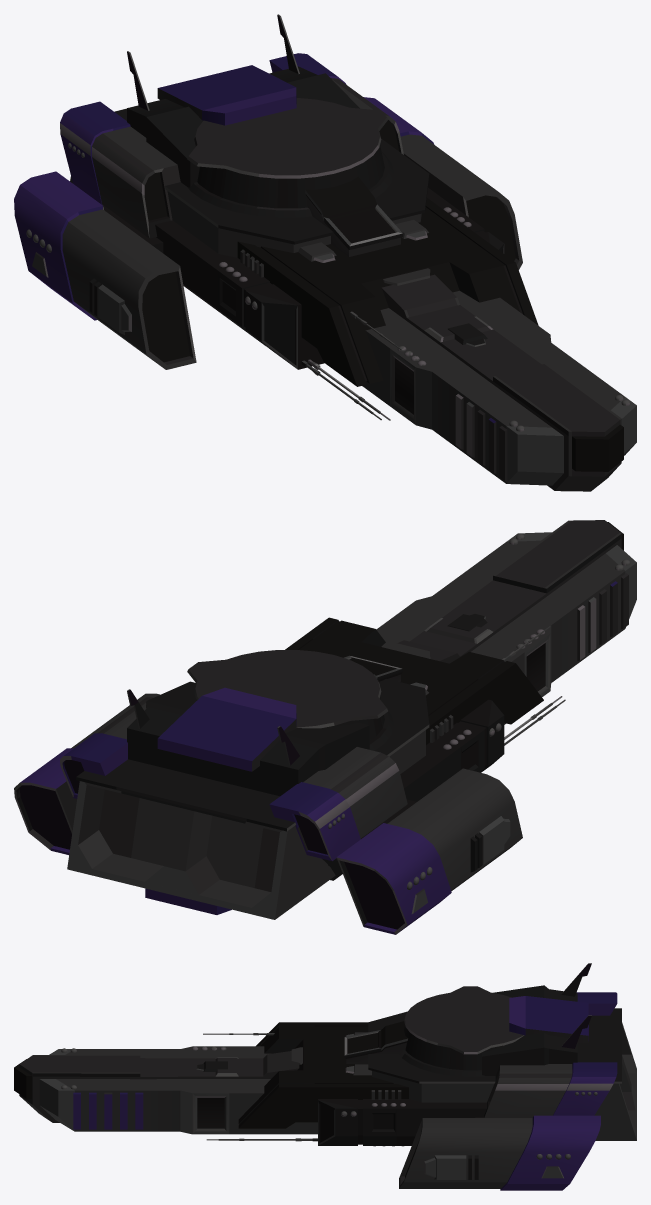
The model's file is insurgent.obj.
The picture shows the model from 3 angles, top to bottom: view 1: azimuth 30°, elevation 25°; view 2: azimuth 150°, elevation 25°; view 3: azimuth 270°, elevation 25°; orthographic projection. The views are drawn at different scales.
Parts seen in each view (by area): view 1: Insurgent_Cylinder.001; view 2: Insurgent_Cylinder.001; view 3: Insurgent_Cylinder.001.
Boxes of the visible parts, x1,y1,x2,y2 form: Insurgent_Cylinder.001: [14, 14, 636, 491]; Insurgent_Cylinder.001: [14, 520, 636, 934]; Insurgent_Cylinder.001: [14, 963, 636, 1190].
Bounding box in the file's own units: 5.57 × 2.87 × 10.95.
